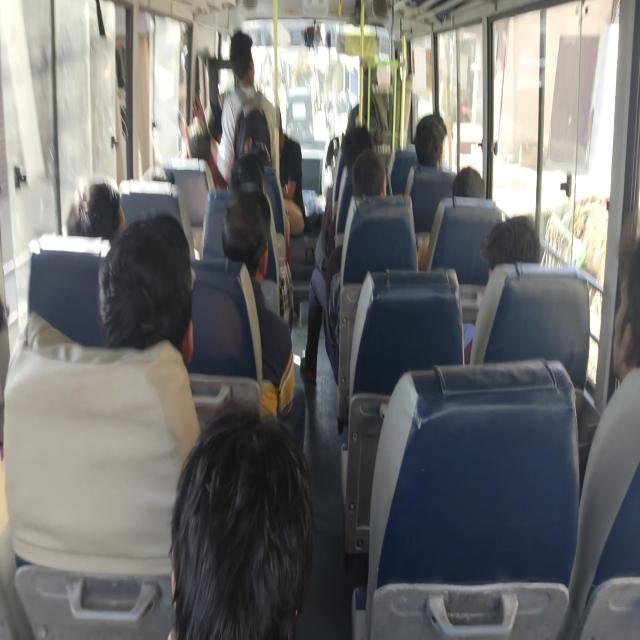person: (162, 409, 314, 637), (561, 220, 640, 630), (99, 212, 195, 360), (470, 216, 544, 366), (404, 111, 454, 252), (429, 166, 488, 277), (612, 217, 640, 389), (221, 186, 271, 274), (67, 176, 124, 243), (276, 106, 304, 232), (482, 214, 543, 271), (412, 114, 447, 169), (352, 148, 388, 199), (230, 152, 268, 194), (341, 124, 374, 168), (142, 162, 180, 194), (451, 166, 485, 200), (185, 122, 214, 161), (229, 31, 255, 73)
